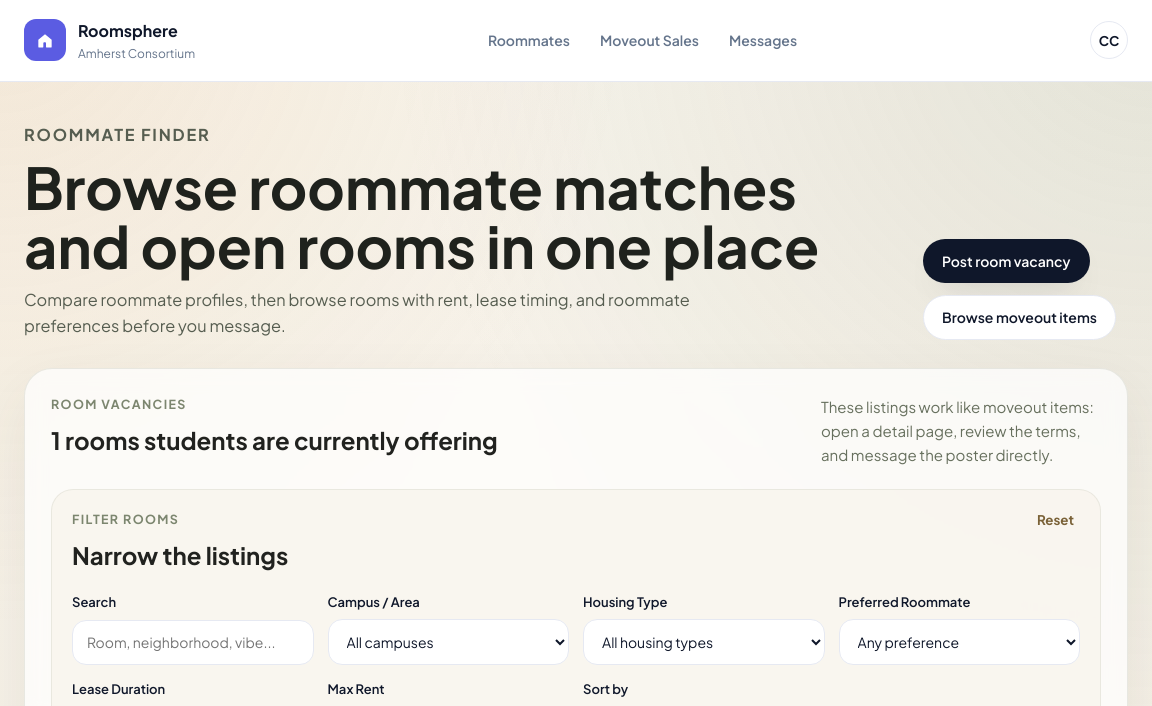
it: RoommateFinder › logs the user out from the profile menu
Click the button "CC" at (1109, 40), box x1=1090 y1=21 x2=1128 y2=59
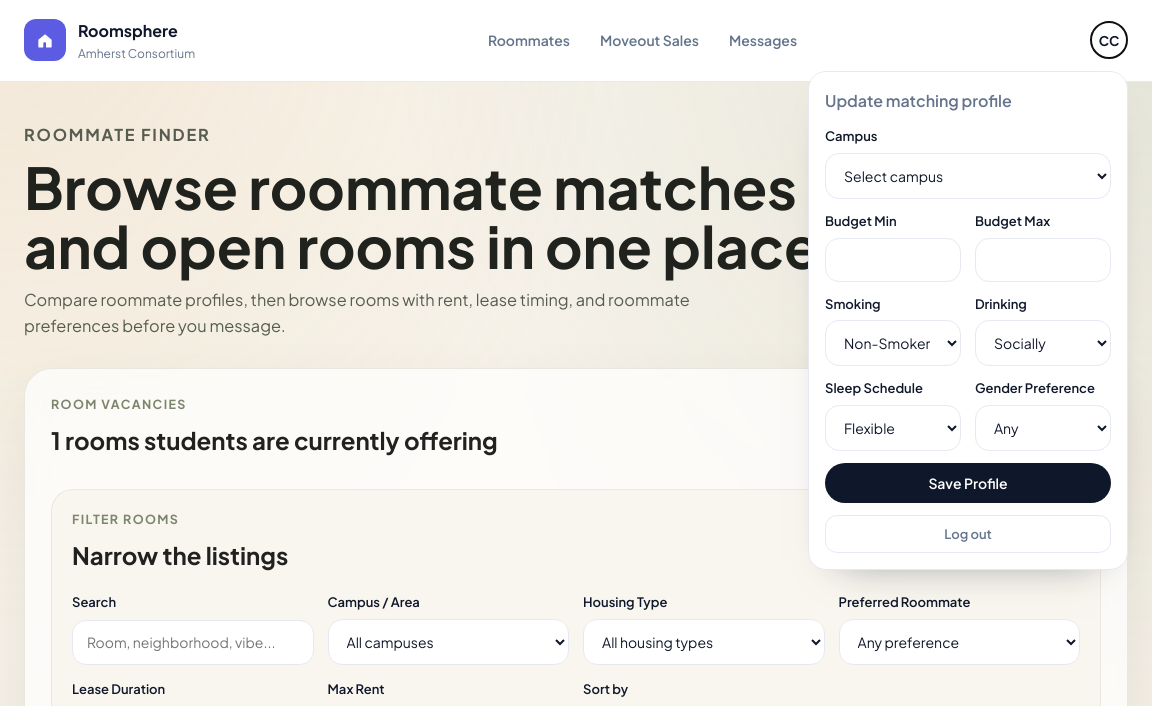
Click the button "Log out" at (968, 534), box x1=825 y1=515 x2=1111 y2=553
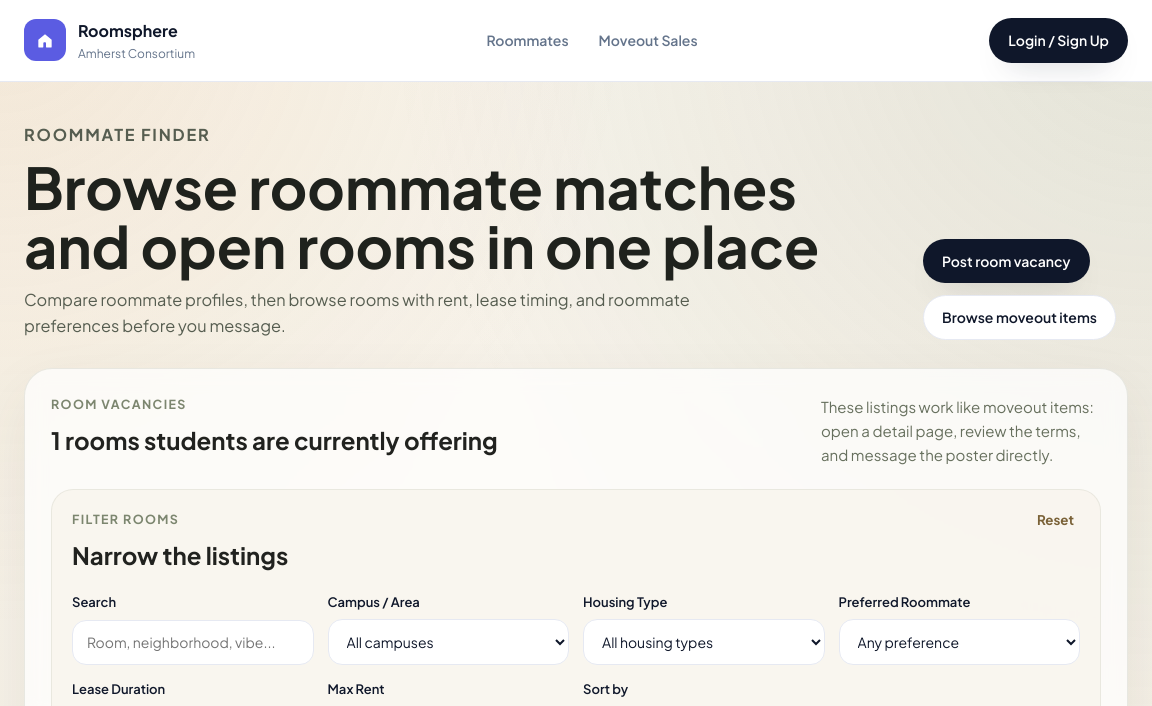
expect the link "Login / Sign Up" is shown: met, box x1=989 y1=18 x2=1128 y2=63
